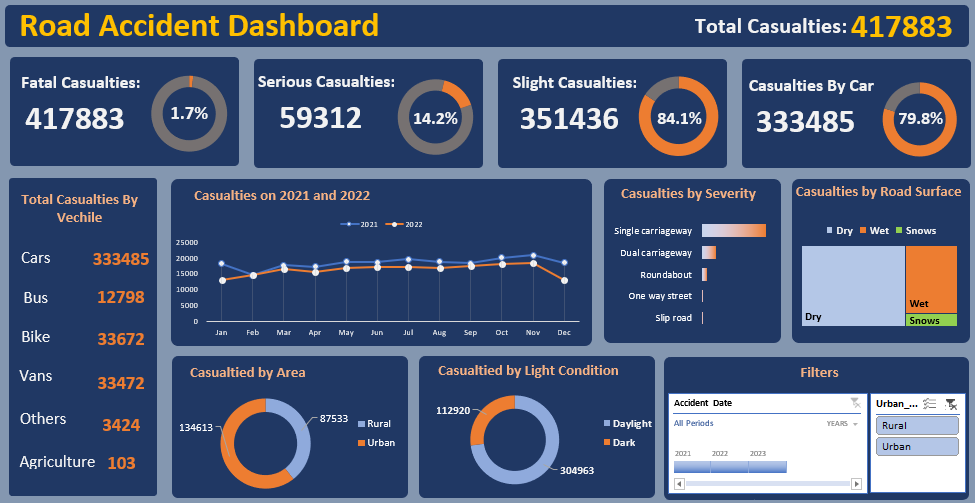

Layout of this report page (visuals, bound fields, positions):
{"tool":"powerbi","page":{"name":"Page 1","canvas":[1280,720],"ordinal":0},"visuals":[{"type":"group","id":"g1","title":"Group 1","box":[23.3,98.3,211.7,113.3],"z":0},{"type":"card","title":"Total CY Casualties","fields":{"Values":["Data.CY Casualties"]},"box":[23.3,98.3,211.7,80],"z":0,"group":"g1"},{"type":"card","title":"Total CY Accidents","fields":{"Values":["Data.Total CY Accidents Count"]},"box":[273.3,98.3,211.7,80],"z":0,"group":"g2"},{"type":"card","title":"CY Fatal Casualties","fields":{"Values":["Data.CY Casualties"]},"box":[533.3,98.3,211.7,80],"z":0,"group":"g3"},{"type":"card","title":"CY Serious Casualties","fields":{"Values":["Data.CY Casualties"]},"box":[785,98.3,211.7,80],"z":0,"group":"g4"},{"type":"card","title":"CY Slight Casualties","fields":{"Values":["Data.CY Casualties"]},"box":[1041.7,98.3,211.7,80],"z":0,"group":"g5"},{"type":"group","id":"g2","title":"Group 1","box":[273.3,98.3,211.7,113.3],"z":1000},{"type":"card","fields":{"Values":["Data.YoY Casualties"]},"box":[73.3,171.6,85,40],"z":1000,"group":"g1"},{"type":"card","fields":{"Values":["Data.YoY Accidents"]},"box":[323.3,171.6,85,40],"z":1000,"group":"g2"},{"type":"card","fields":{"Values":["Data.YoY Casualties"]},"box":[583.3,171.6,85,40],"z":1000,"group":"g3"},{"type":"card","fields":{"Values":["Data.YoY Casualties"]},"box":[835,171.6,85,40],"z":1000,"group":"g4"},{"type":"card","fields":{"Values":["Data.YoY Casualties"]},"box":[1091.7,171.6,85,40],"z":1000,"group":"g5"},{"type":"group","id":"g3","title":"Group 1","box":[533.3,98.3,211.7,113.3],"z":2000},{"type":"group","id":"g4","title":"Group 1","box":[785,98.3,211.7,113.3],"z":3000},{"type":"group","id":"g5","title":"Group 1","box":[1041.7,98.3,211.7,113.3],"z":4000},{"type":"textbox","box":[23.3,7.8,474.4,68.9],"z":5000},{"type":"multiRowCard","fields":{"Values":["Data.Vehicle_Type (groups)","Data.CY Casualties"]},"box":[106,260,154,442],"z":6000},{"type":"textbox","box":[24.4,222.2,227.8,37.8],"z":7000},{"type":"areaChart","title":"CY Casualties VS PY Casualties Trend","fields":{"Category":["Calendar.Month"],"Y":["Sum(Data.Number_of_Casualties)"],"Series":["Calendar.Date.Variation.Date Hierarchy.Year"]},"box":[261.1,230,452.2,220],"z":8000},{"type":"barChart","fields":{"Category":["Data.Road_Type"],"Y":["Data.CY Casualties"]},"box":[260,466.7,453.3,235],"z":9000},{"type":"donutChart","fields":{"Category":["Data.Urban_or_Rural_Area"],"Y":["Data.CY Casualties"]},"box":[728.3,221.7,246.7,228.3],"z":10000},{"type":"donutChart","title":"CY Casualties by Light_Conditions ","fields":{"Y":["Data.CY Casualties"],"Category":["Data.Light_Conditions (groups)"]},"box":[728.3,470,246.7,228.3],"z":11000},{"type":"image","box":[13.3,338.3,93.3,56.7],"z":12000},{"type":"image","box":[13.3,411.7,93.3,58.3],"z":13000},{"type":"image","box":[13.3,490,93.3,58.3],"z":14000},{"type":"image","box":[11.7,640,93.3,58.3],"z":15000},{"type":"image","box":[20,266.7,83.3,58.3],"z":16000},{"type":"image","box":[18.3,568.3,75,53.3],"z":17000},{"type":"slicer","fields":{"Values":["Data.Weather_Conditions (groups)"]},"box":[1041.7,8.3,200,68.3],"z":18000},{"type":"slicer","fields":{"Values":["Data.Road_Surface_Conditions"]},"box":[796.7,8.3,195,68.3],"z":19000},{"type":"barChart","title":"Casualties By Districts","fields":{"Y":["Sum(Data.Number_of_Casualties)"],"Category":["Data.Local_Authority_(District)"]},"box":[991.7,222.2,260.8,481.1],"z":20000}]}

Visuals, with their boxes on the page's 1280x720 design canvas (x1, y1, x2, y2). These are canvas units, not pixel positions in the 975x503 screenshot, which may show the page scaled, cropped or inside an application window:
"Group 1" group: <region>23, 98, 235, 212</region>
"Total CY Casualties" card: <region>23, 98, 235, 178</region>
"Total CY Accidents" card: <region>273, 98, 485, 178</region>
"CY Fatal Casualties" card: <region>533, 98, 745, 178</region>
"CY Serious Casualties" card: <region>785, 98, 997, 178</region>
"CY Slight Casualties" card: <region>1042, 98, 1253, 178</region>
"Group 1" group: <region>273, 98, 485, 212</region>
card - Data.YoY Casualties: <region>73, 172, 158, 212</region>
card - Data.YoY Accidents: <region>323, 172, 408, 212</region>
card - Data.YoY Casualties: <region>583, 172, 668, 212</region>
card - Data.YoY Casualties: <region>835, 172, 920, 212</region>
card - Data.YoY Casualties: <region>1092, 172, 1177, 212</region>
"Group 1" group: <region>533, 98, 745, 212</region>
"Group 1" group: <region>785, 98, 997, 212</region>
"Group 1" group: <region>1042, 98, 1253, 212</region>
textbox: <region>23, 8, 498, 77</region>
multiRowCard - Data.Vehicle_Type (groups) x Data.CY Casualties: <region>106, 260, 260, 702</region>
textbox: <region>24, 222, 252, 260</region>
"CY Casualties VS PY Casualties Trend" areaChart: <region>261, 230, 713, 450</region>
barChart - Data.Road_Type x Data.CY Casualties: <region>260, 467, 713, 702</region>
donutChart - Data.Urban_or_Rural_Area x Data.CY Casualties: <region>728, 222, 975, 450</region>
"CY Casualties by Light_Conditions " donutChart: <region>728, 470, 975, 698</region>
image: <region>13, 338, 107, 395</region>
image: <region>13, 412, 107, 470</region>
image: <region>13, 490, 107, 548</region>
image: <region>12, 640, 105, 698</region>
image: <region>20, 267, 103, 325</region>
image: <region>18, 568, 93, 622</region>
slicer - Data.Weather_Conditions (groups): <region>1042, 8, 1242, 77</region>
slicer - Data.Road_Surface_Conditions: <region>797, 8, 992, 77</region>
"Casualties By Districts" barChart: <region>992, 222, 1252, 703</region>
